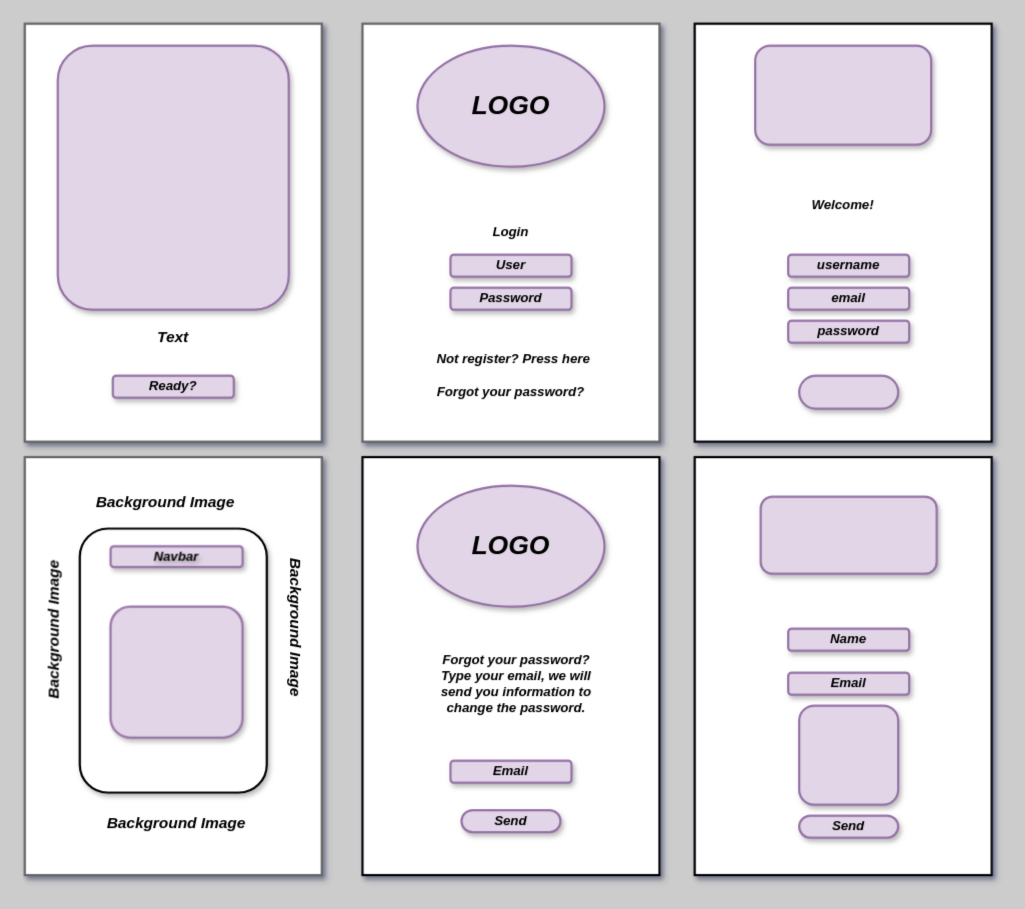
Some shapes in this 1025 by 909 pixel diagram are drawn without their labels. Each missing label, with the centre of its shape:
CONTACT: (849,536)
Image: (174,179)
Image and text: (177,673)
NEW USER: (843,96)
Register: (849,393)
Type here...: (849,756)
